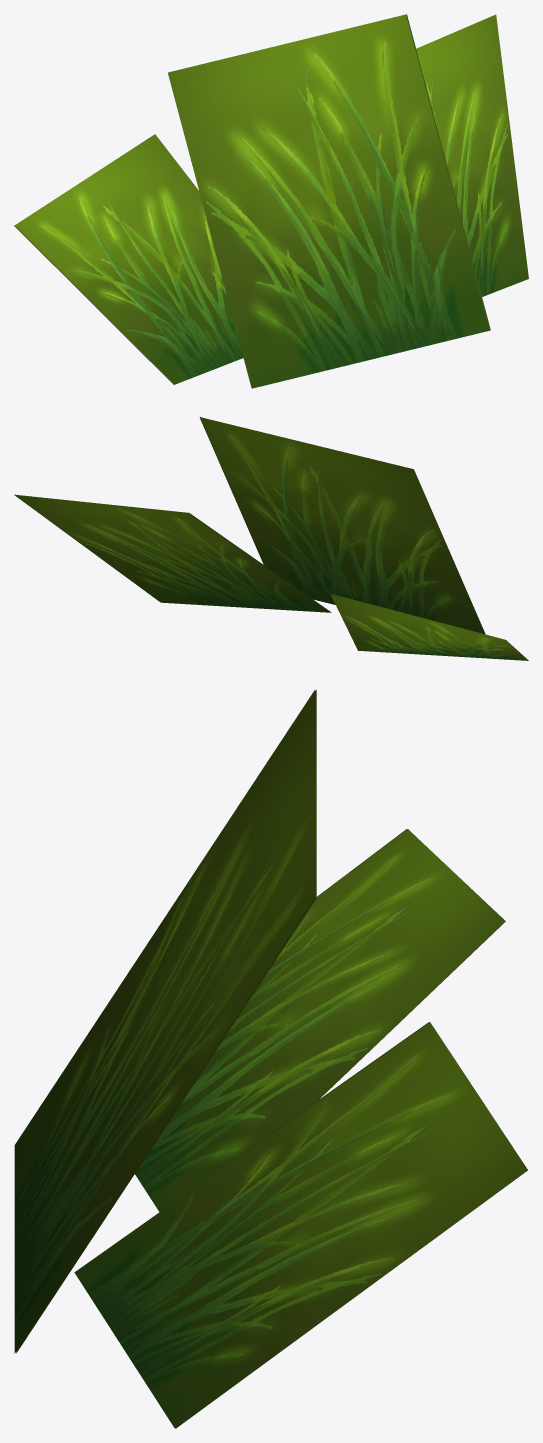
File: 2_Plant_Cao_06.FBX
The picture shows the model from 3 angles, top to bottom: view 1: azimuth 30°, elevation 25°; view 2: azimuth 150°, elevation 25°; view 3: azimuth 270°, elevation 25°; orthographic projection. The views are drawn at different scales.
Parts seen in each view (by area): view 1: 2_Plant_Cao_06; view 2: 2_Plant_Cao_06; view 3: 2_Plant_Cao_06.
Boxes of the visible parts, <box> form: 2_Plant_Cao_06: <box>14,14,528,388</box>; 2_Plant_Cao_06: <box>14,417,528,660</box>; 2_Plant_Cao_06: <box>14,689,527,1428</box>.
Size of the model in its own units: 191 by 90.55 by 91.91.
